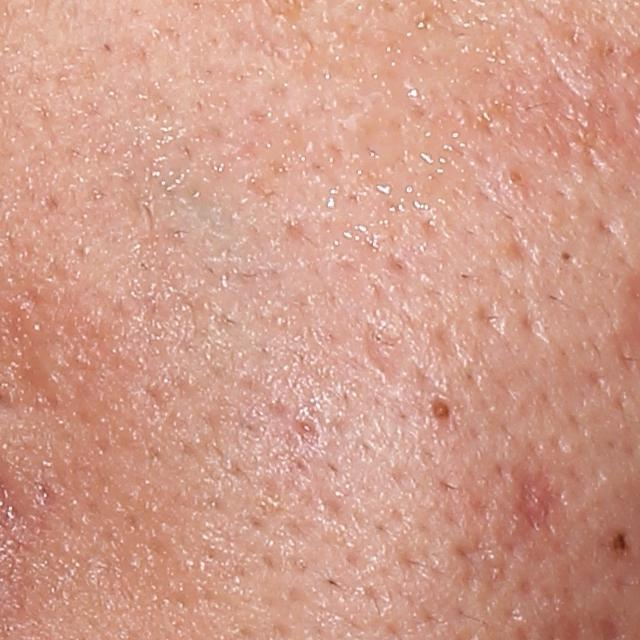atrophic_scar: (360, 271, 468, 388), (485, 453, 574, 548), (236, 373, 325, 449), (448, 535, 511, 608), (504, 231, 551, 278)
comedo: (503, 165, 529, 187)
nevus: (599, 526, 635, 558)
